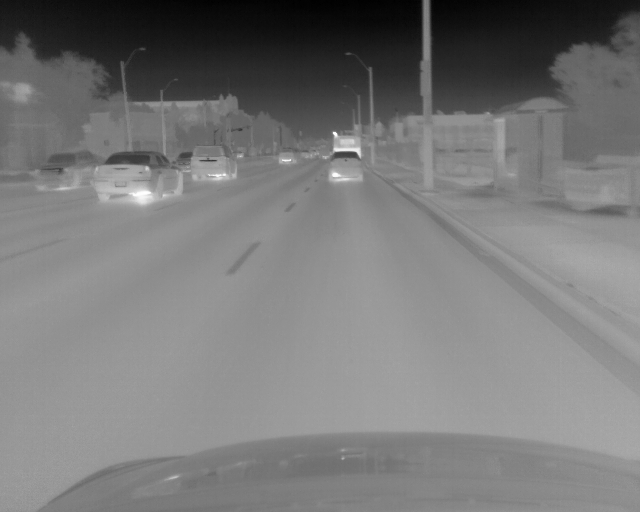car: (92, 150, 183, 207), (31, 150, 95, 189), (192, 144, 238, 182), (328, 154, 362, 181), (332, 134, 362, 157), (278, 148, 301, 164), (175, 151, 192, 172), (299, 148, 315, 159)
